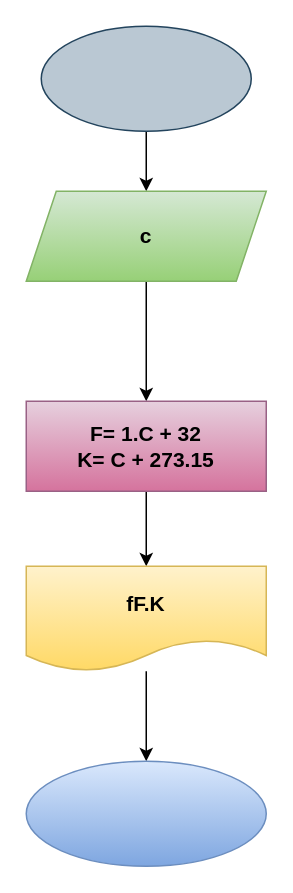
This 293x893 diagram has some shape labels left out. Each missing label, with the centre of its shape:
"FIN" belongs at (x=145, y=813).
"INICIO" belongs at (x=145, y=78).
